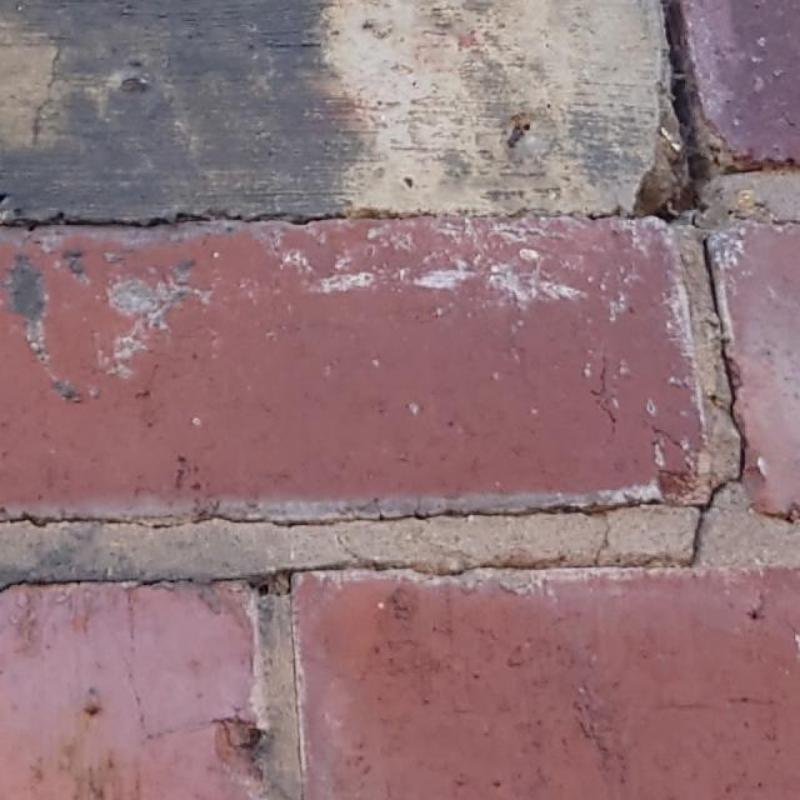crack: (0, 496, 664, 570), (0, 559, 699, 600), (686, 234, 748, 564), (653, 0, 719, 217), (0, 206, 350, 231), (470, 202, 649, 224)
